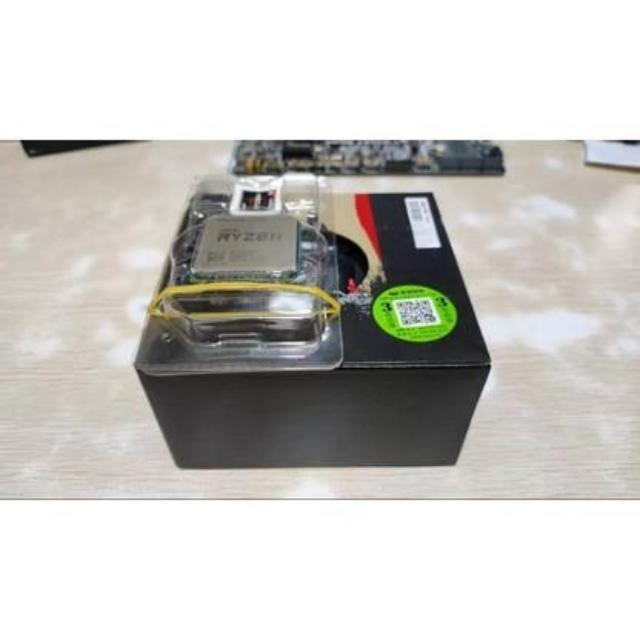CPU: (190, 210, 302, 276)
